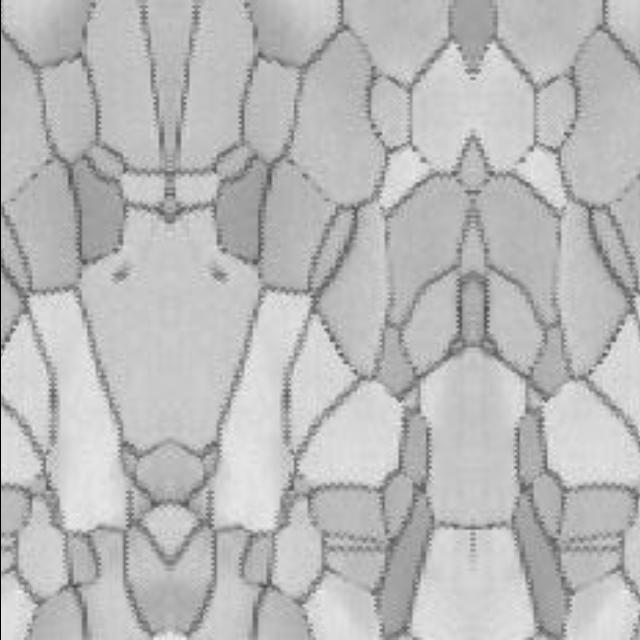good_void: (206, 261, 231, 288), (105, 261, 130, 288)
